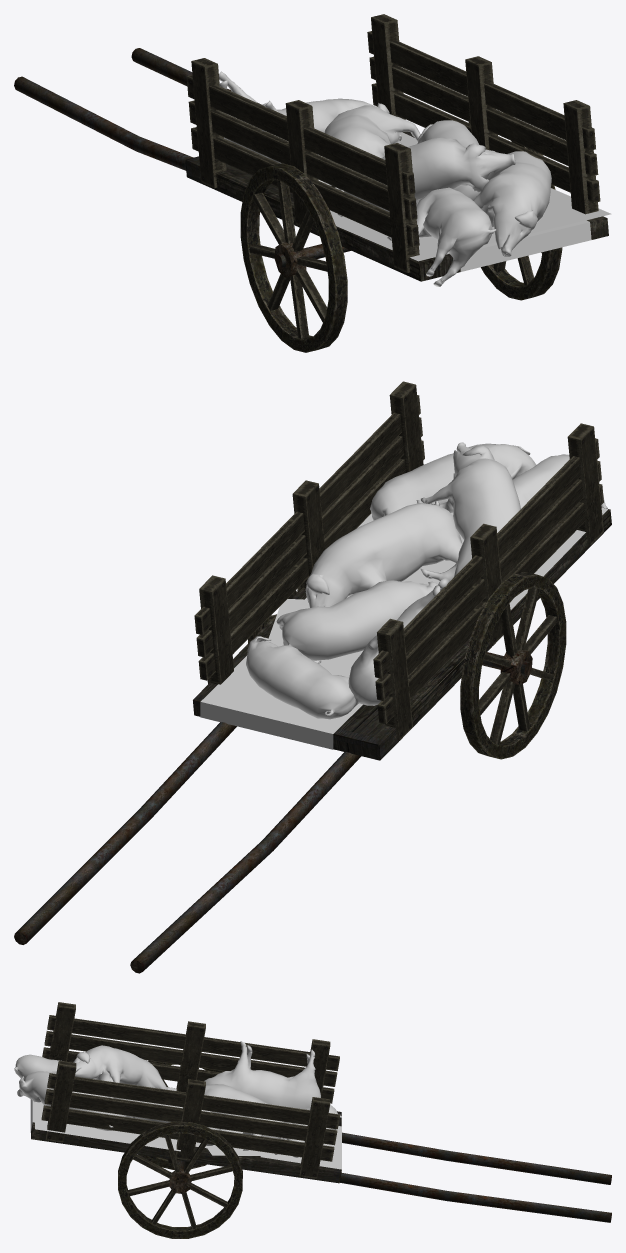
Rendered from wooden_cart_02.DAE.
The picture shows the model from 3 angles, top to bottom: view 1: azimuth 30°, elevation 25°; view 2: azimuth 150°, elevation 25°; view 3: azimuth 270°, elevation 25°; orthographic projection. The views are drawn at different scales.
Parts seen in each view (by area): view 1: Cylinder007, pig_carcass020, Plane014; view 2: Cylinder007, pig_carcass020, Plane014; view 3: Cylinder007, pig_carcass020, Plane014.
Part boxes in pixels (x1=…): Cylinder007: x1=14, y1=14, x2=608, y2=352; pig_carcass020: x1=219, y1=71, x2=551, y2=286; Plane014: x1=330, y1=132, x2=611, y2=271; Cylinder007: x1=14, y1=381, x2=611, y2=973; pig_carcass020: x1=246, y1=442, x2=607, y2=719; Plane014: x1=200, y1=464, x2=608, y2=749; Cylinder007: x1=31, y1=1002, x2=611, y2=1238; pig_carcass020: x1=14, y1=1041, x2=341, y2=1157; Plane014: x1=30, y1=1087, x2=341, y2=1170.
Size of the model in its own units: 2.57 by 2.57 by 8.22.
